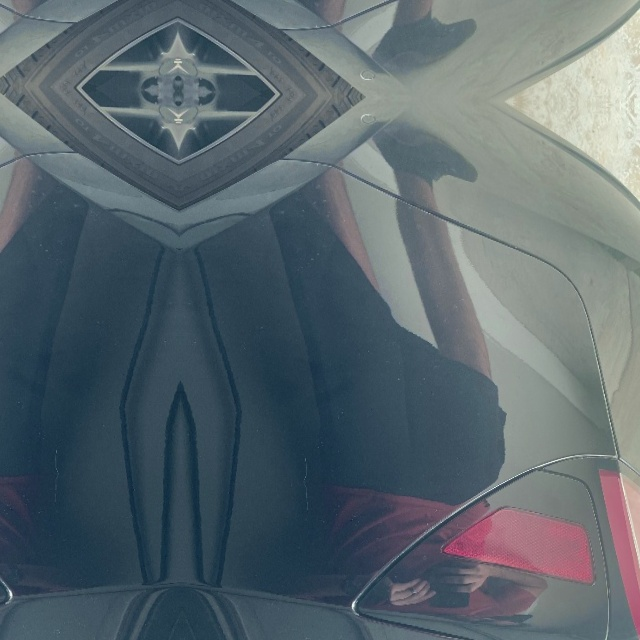reflector: (440, 504, 596, 585)
